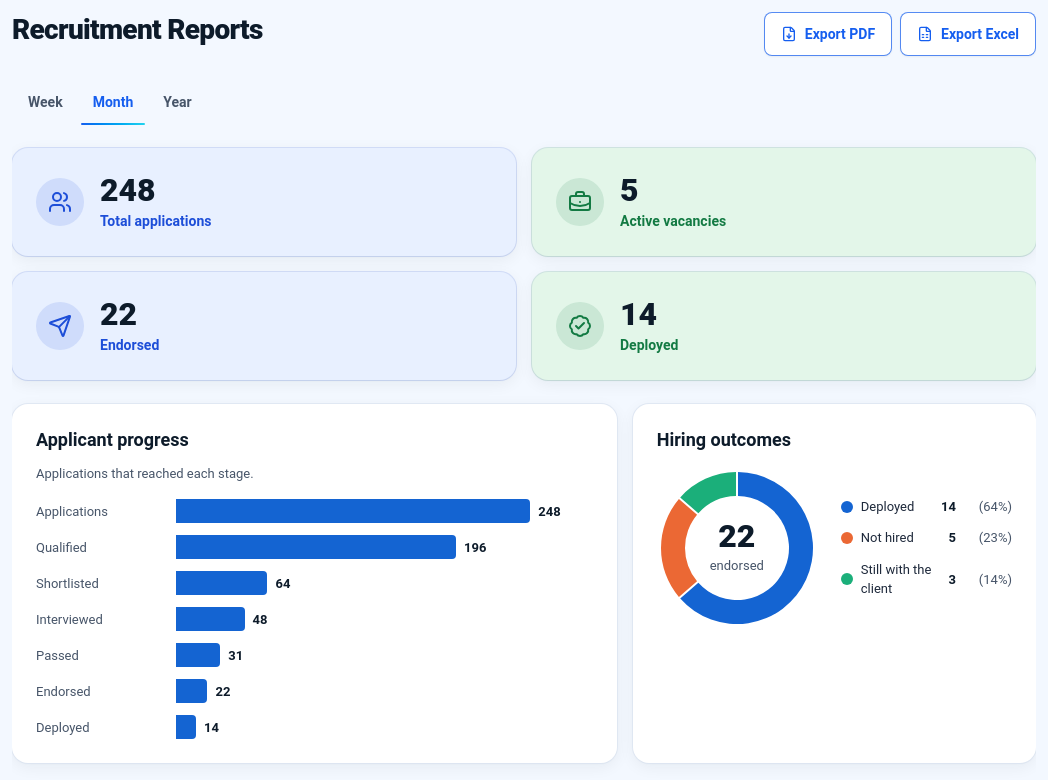
Scenario: Recruitment Reports (decision 34) › decision 40-4: Week / Month / Year selector, Month by default; each period shows its own totals everywhere; still no API
The image size is (1048, 780).
Check: the 1st text "248" is shown, box x1=100 y1=171 x2=156 y2=209
Check: the 1st text "5" is shown, box x1=620 y1=171 x2=638 y2=209
Click the tab "Week" at x=45, y=102, box x1=15 y1=84 x2=76 y2=120
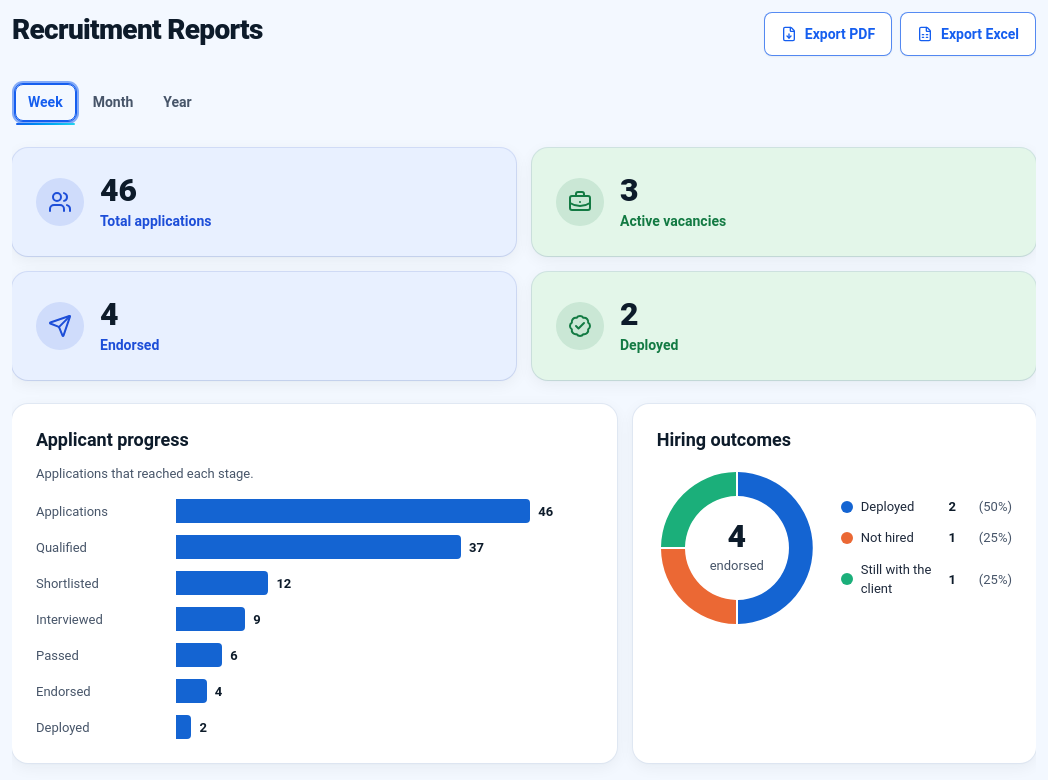
Check: the 1st text "46" is shown, box x1=100 y1=171 x2=137 y2=209
Check: the text "3" is shown, box x1=620 y1=171 x2=638 y2=209
Check: the text "4" below "Total applications" is shown, box x1=100 y1=295 x2=118 y2=333
Click the tab "Year" at x=178, y=102, box x1=150 y1=84 x2=205 y2=120
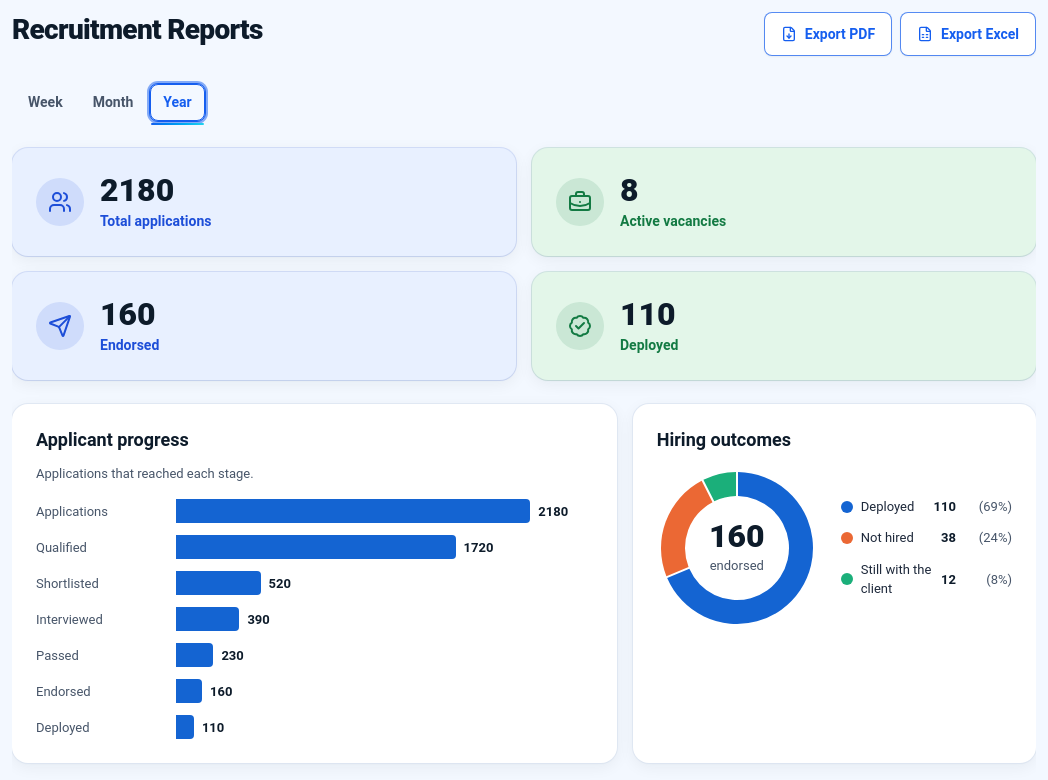
Check: the 1st text "2180" is shown, box x1=100 y1=171 x2=174 y2=209
Check: the text "8" is shown, box x1=620 y1=171 x2=638 y2=209
Check: the text "160" below "Total applications" is shown, box x1=100 y1=295 x2=156 y2=333
Click the tab "Month" at x=113, y=102, box x1=80 y1=84 x2=146 y2=120
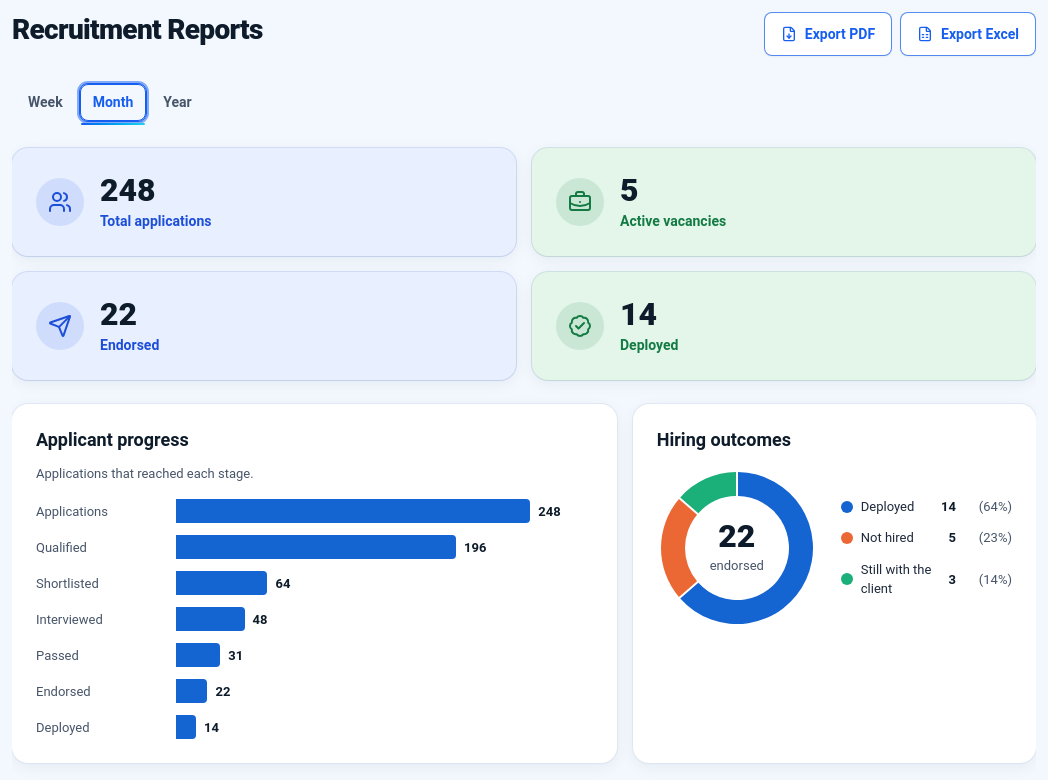
Check: the 1st text "248" is shown, box x1=100 y1=171 x2=156 y2=209
Check: the 1st text "5" is shown, box x1=620 y1=171 x2=638 y2=209
Check: the text "22" below "Total applications" is shown, box x1=100 y1=295 x2=137 y2=333
